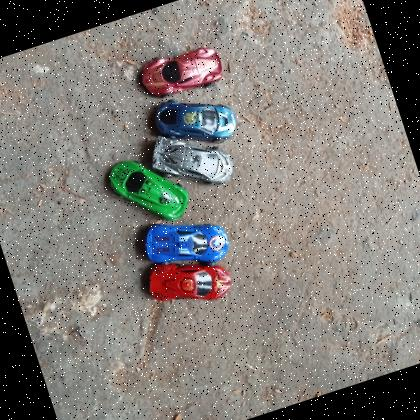Car: (141, 114, 241, 206), (103, 144, 195, 234), (146, 80, 244, 160), (140, 241, 238, 319), (138, 204, 236, 280), (134, 38, 229, 106)
